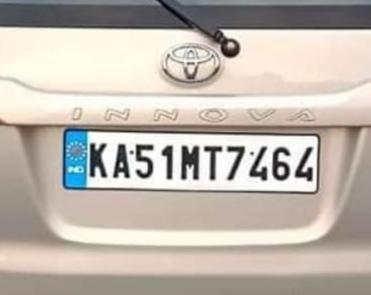1: (160, 140, 177, 183)
4: (247, 144, 270, 184), (293, 143, 314, 184)
5: (134, 137, 158, 180)
6: (271, 145, 292, 184)
7: (226, 142, 247, 180)
A: (109, 139, 134, 181)
K: (87, 139, 110, 183)
M: (179, 139, 202, 183)
T: (203, 139, 223, 181)
